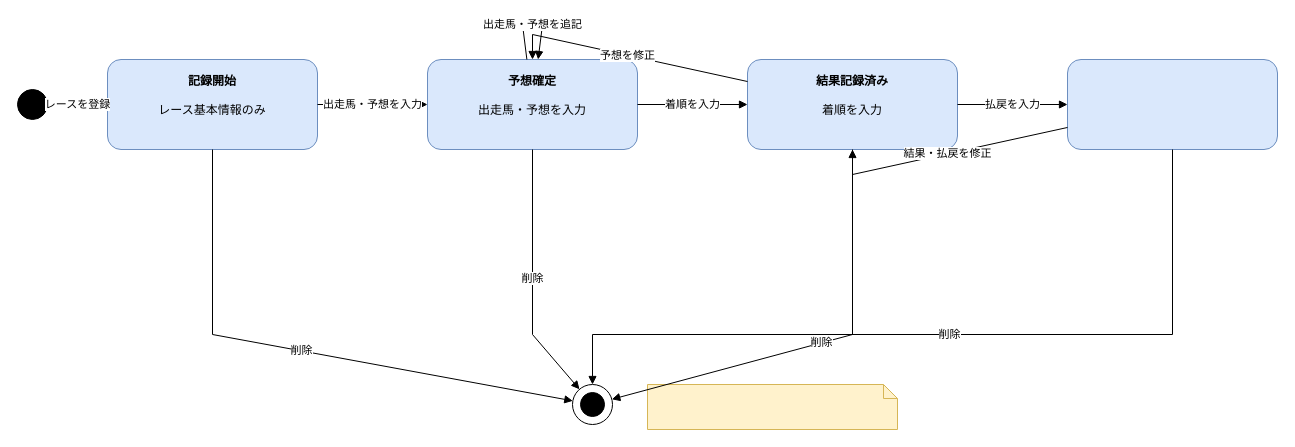
This 1295x447 diagram has some shape labels left out. The centre of each missing label's shape, as x and y in pixels:
"収支確定 全馬券の払戻を入力" goes at pixel 1172 104.
"記録を削除する （取り消しで復元可能）" goes at pixel 772 407.
